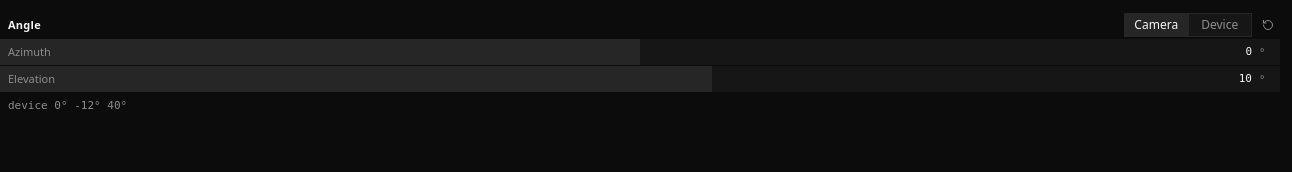
it: AnglePanel › hiện số của bộ ĐANG ẨN ở dạng thu gọn
Expected: the text with test id "angle-collapsed" shows "device", [8,99,127,112]
Expected: the text with test id "angle-collapsed" shows "-12°", [8,99,127,112]
Click the radio button labelled "Device". click: (1220, 25)
box: [1188,14,1251,36]
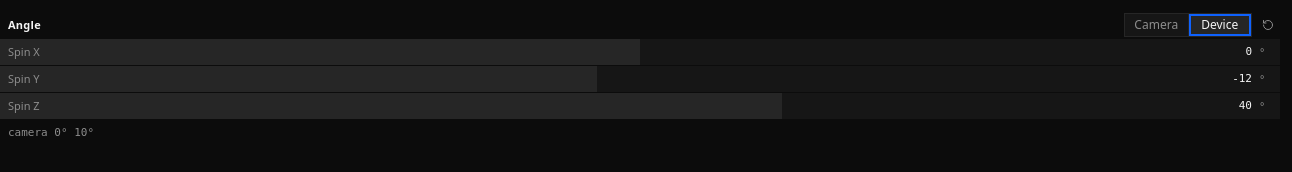
Now the text with test id "angle-collapsed" shows "camera", box [8,126,94,139]
